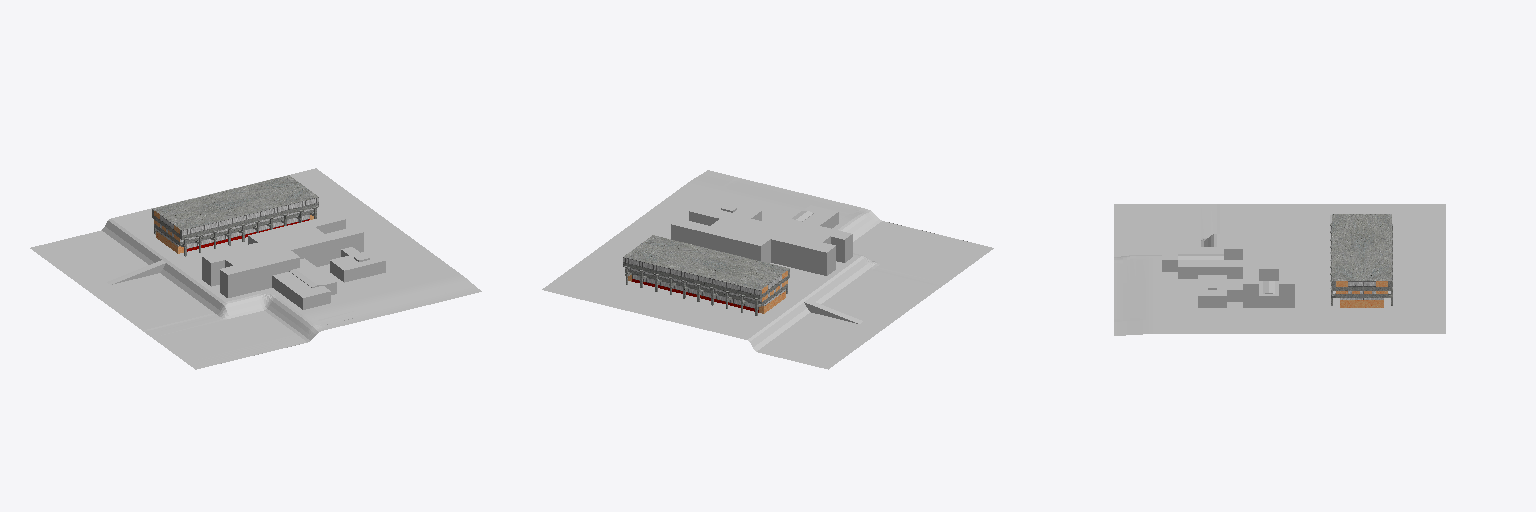
3 renders of one model, left to right at view 1: azimuth 30°, elevation 25°; view 2: azimuth 150°, elevation 25°; view 3: azimuth 270°, elevation 25°, orthographic.
Visible parts, largest first — view 1: Terrain_Plane, BlocoB_Plane.002, BlocoA_Plane.001, AColumn_Cube; view 2: Terrain_Plane, BlocoB_Plane.002, BlocoA_Plane.001, AColumn_Cube; view 3: Terrain_Plane, BlocoB_Plane.002, BlocoA_Plane.001.
Boxes of the visible parts, <box> form: Terrain_Plane: <box>30,168,481,369</box>; BlocoB_Plane.002: <box>202,214,385,309</box>; BlocoA_Plane.001: <box>152,175,318,253</box>; AColumn_Cube: <box>154,206,318,256</box>; Terrain_Plane: <box>542,170,993,369</box>; BlocoB_Plane.002: <box>671,201,852,275</box>; BlocoA_Plane.001: <box>623,235,789,313</box>; AColumn_Cube: <box>623,266,787,315</box>; Terrain_Plane: <box>1114,204,1445,335</box>; BlocoB_Plane.002: <box>1162,213,1294,307</box>; BlocoA_Plane.001: <box>1332,214,1391,307</box>.
Bounding box in the file's own units: 29.02 × 3.5 × 29.13.
Materials: 16 (4 with a texture image).